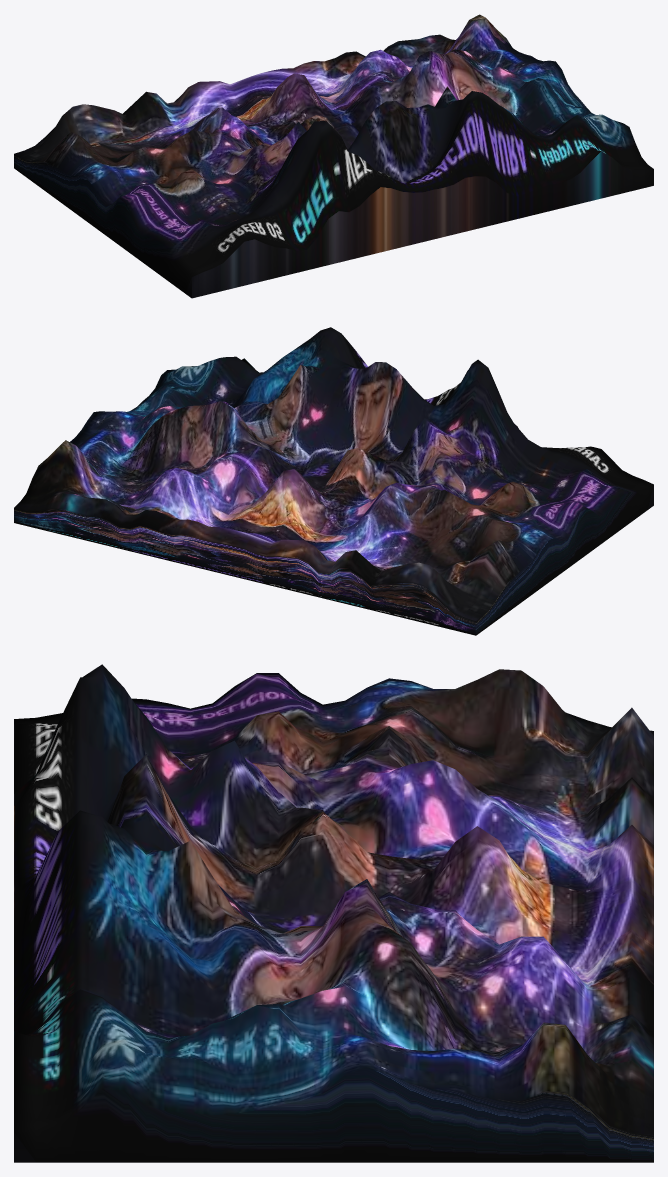
The model's file is CAREER_05_VFX_03_Satisfaction.glb.
3 views of the same model, one above another, from view 1: azimuth 30°, elevation 25°; view 2: azimuth 150°, elevation 25°; view 3: azimuth 270°, elevation 25° (orthographic). The views are drawn at different scales.
Visible parts, largest first — view 1: CAREER_05_VFX_03_Satisfaction; view 2: CAREER_05_VFX_03_Satisfaction; view 3: CAREER_05_VFX_03_Satisfaction.
Part boxes in pixels (box(x1,y1,x2,y2)): CAREER_05_VFX_03_Satisfaction: box(14, 14, 653, 298); CAREER_05_VFX_03_Satisfaction: box(14, 327, 653, 635); CAREER_05_VFX_03_Satisfaction: box(14, 664, 653, 1162).
Bounding box in the file's own units: 2 × 0.51 × 1.33.
Materials: 1 (1 with a texture image).
